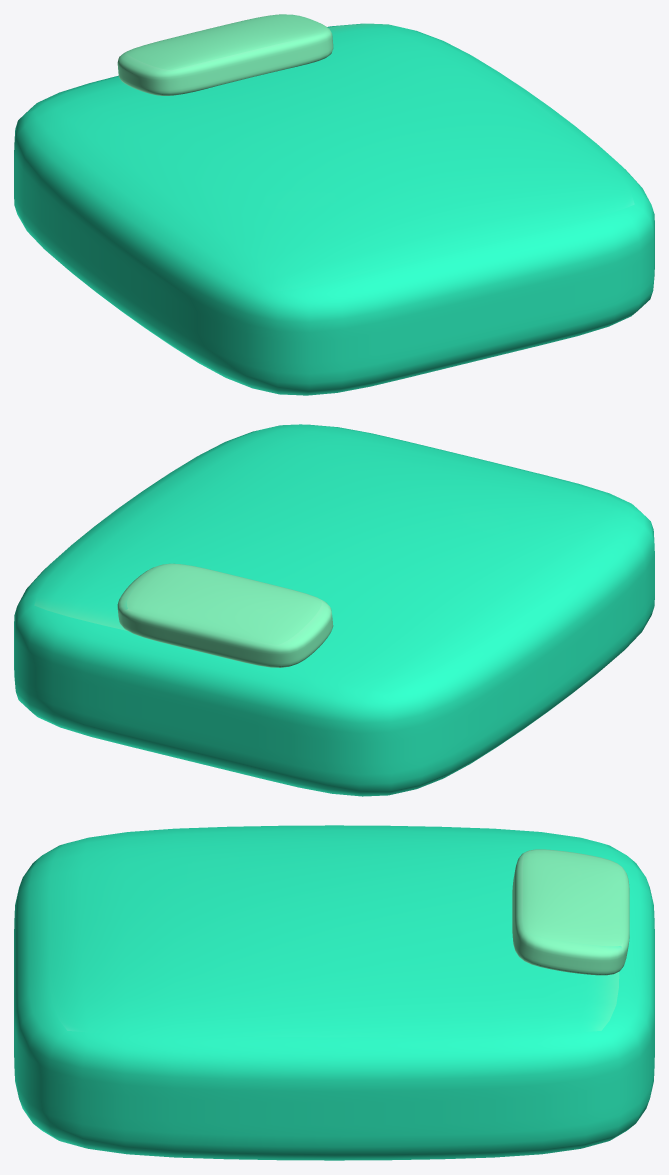
The model's file is Bed.fbx.
3 renders of one model, top to bottom at view 1: azimuth 30°, elevation 25°; view 2: azimuth 150°, elevation 25°; view 3: azimuth 270°, elevation 25°, orthographic. The views are drawn at different scales.
Parts seen in each view (by area): view 1: Cube; view 2: Cube; view 3: Cube.
Part boxes in pixels (bbox=[...]): Cube: bbox=[14, 14, 654, 395]; Cube: bbox=[14, 424, 654, 796]; Cube: bbox=[14, 825, 654, 1160].
Size of the model in its own units: 217 by 72.33 by 246.
1 material, 1 textured.
